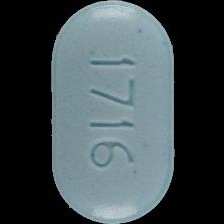0093-1716: (0, 0, 224, 224)
